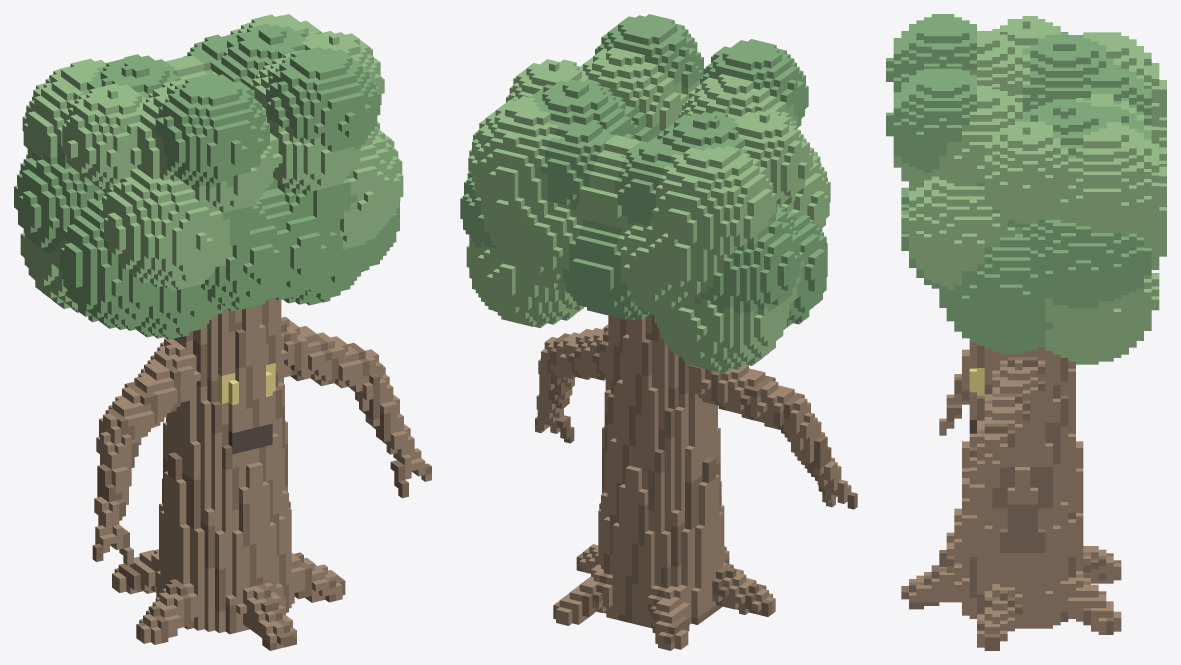
File: tree.glb
3 renders of one model, left to right at view 1: azimuth 30°, elevation 25°; view 2: azimuth 150°, elevation 25°; view 3: azimuth 270°, elevation 25°, orthographic. The views are drawn at different scales.
Visible parts, largest first — view 1: item; view 2: item; view 3: item.
Boxes of the visible parts, bbox=[...] form: item: bbox=[14, 14, 431, 650]; item: bbox=[460, 14, 857, 650]; item: bbox=[886, 14, 1166, 650].
Size of the model in its own units: 50 by 80 by 37.
